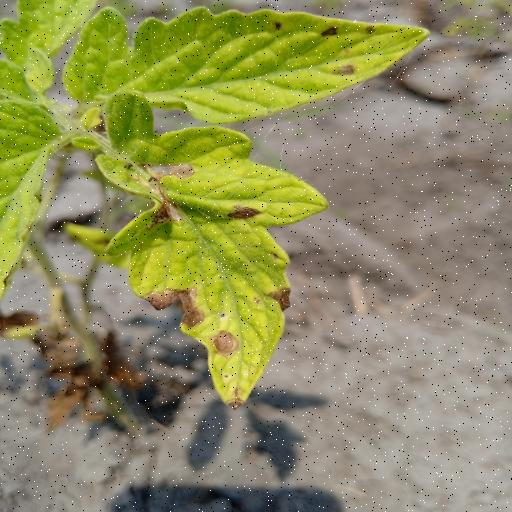Tomato_Brown_Spots: (98, 89, 332, 409), (60, 5, 439, 123)
